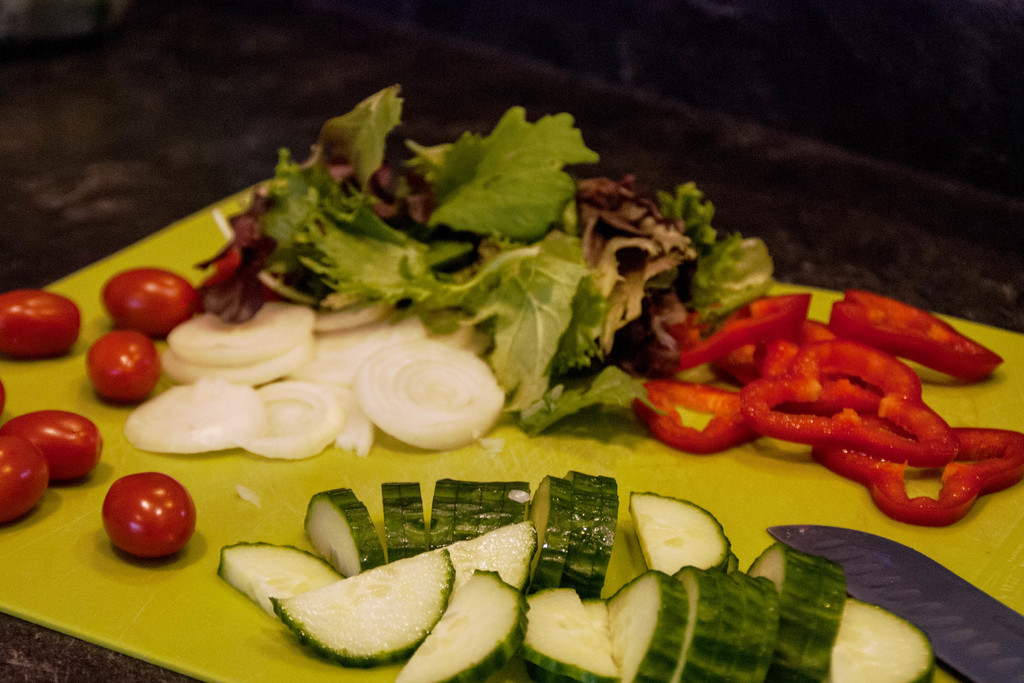Tomato: (88, 477, 192, 566), (2, 409, 102, 481), (101, 267, 196, 331), (0, 290, 91, 356), (83, 328, 161, 404), (0, 440, 51, 522)
